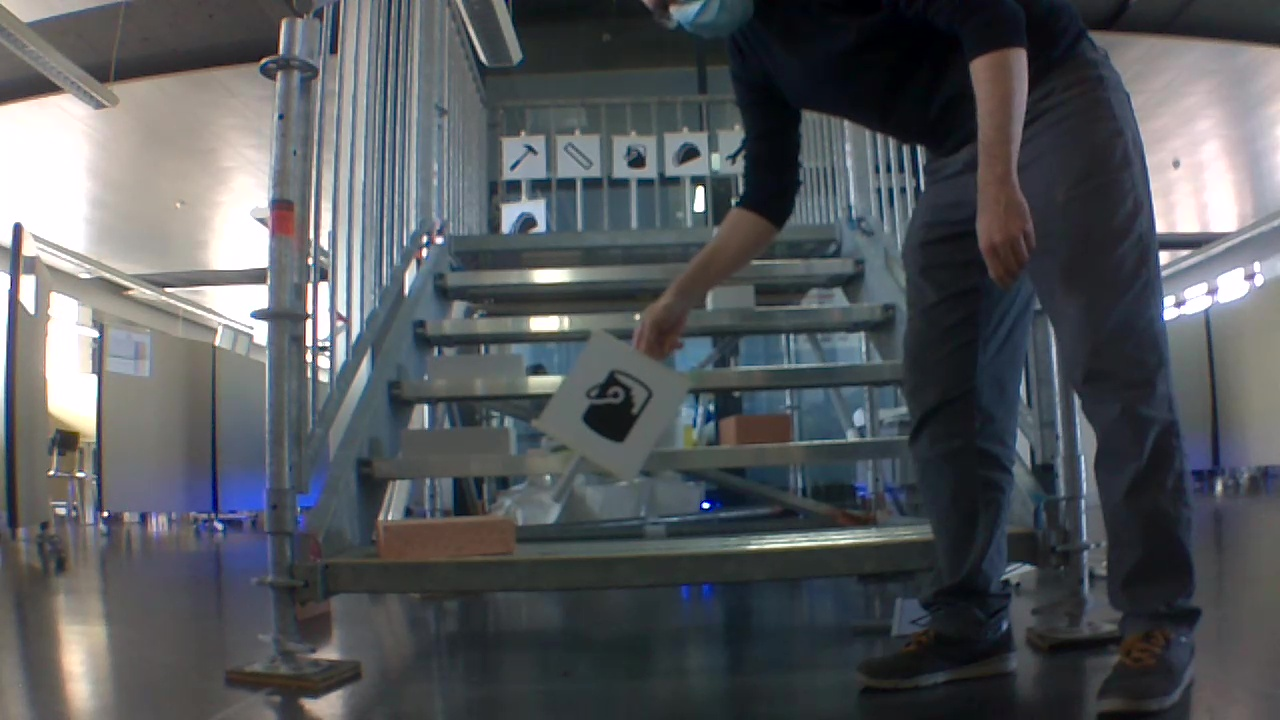brick: (377, 514, 511, 557), (400, 425, 516, 459), (427, 353, 523, 383), (720, 415, 790, 443), (710, 287, 753, 311)
bucket: (574, 365, 656, 450), (618, 142, 650, 169)
edge: (327, 534, 1037, 594)
hammer: (504, 139, 540, 176)
ruler: (555, 138, 597, 175)
taco: (670, 140, 702, 169), (504, 209, 541, 232)
